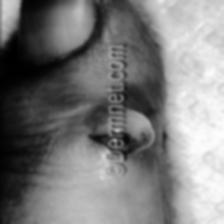Toxin: (126, 107, 156, 158), (80, 112, 106, 158)
